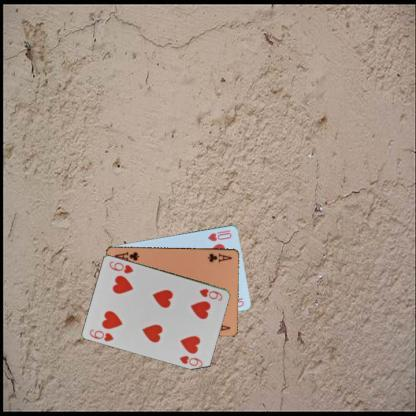10h: (205, 230, 233, 242)
6h: (87, 326, 115, 342), (197, 286, 224, 302)
Ac: (205, 251, 233, 263)
